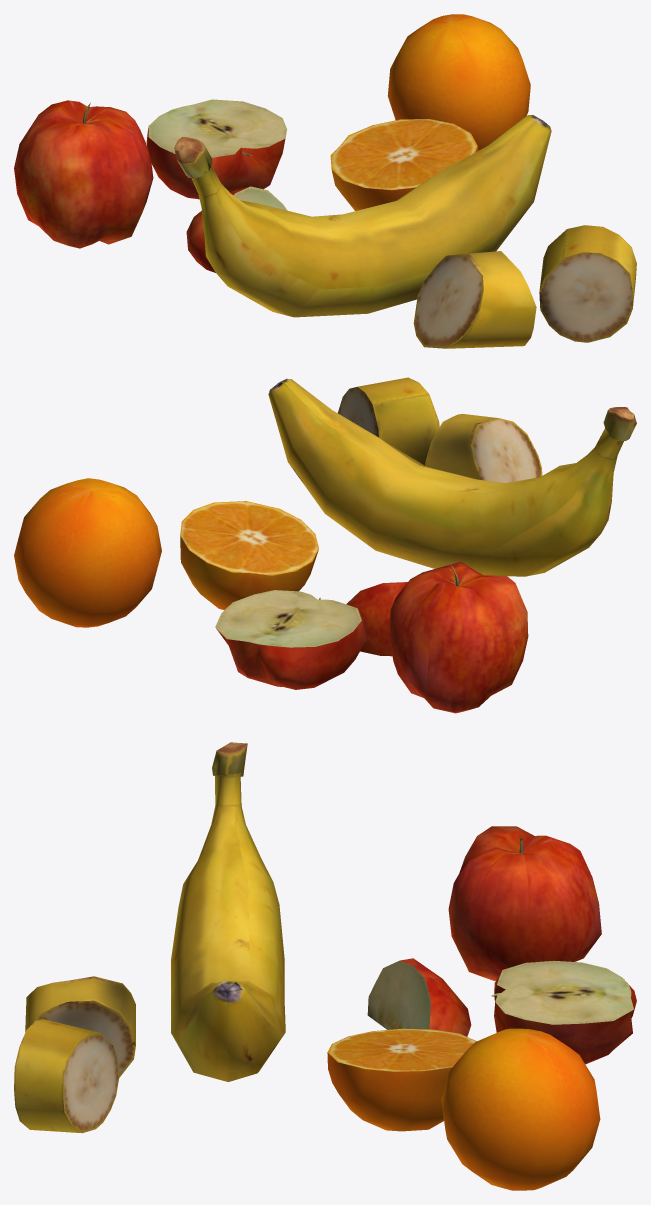
Rendered from fruit.FBX.
3 renders of one model, top to bottom at view 1: azimuth 30°, elevation 25°; view 2: azimuth 150°, elevation 25°; view 3: azimuth 270°, elevation 25°, orthographic. The views are drawn at different scales.
Visible parts, largest first — view 1: fruit low001; view 2: fruit low001; view 3: fruit low001.
Part boxes in pixels (x1,y1,x2,y2): fruit low001: (14, 14, 636, 348); fruit low001: (14, 377, 636, 713); fruit low001: (14, 742, 636, 1190).
Size of the model in its own units: 0.6956 by 0.2888 by 0.7105.
